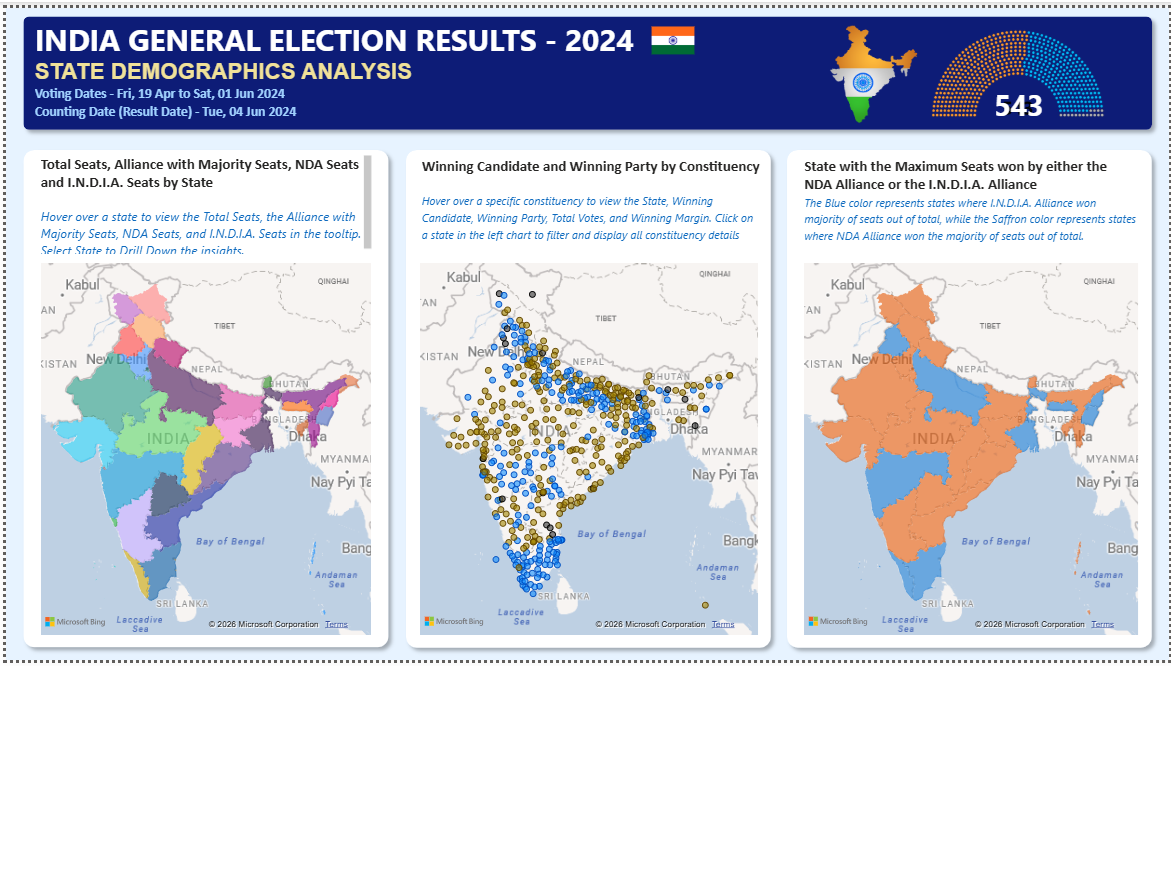

The page's visual inventory and layout, read from the dashboard file:
{"tool":"powerbi","page":{"name":"State Demographics","canvas":[1250,700],"ordinal":1},"visuals":[{"type":"shape","box":[9.3,0,1229.8,139.8],"z":0},{"type":"textbox","box":[25.3,5.9,684.8,121.3],"z":1000},{"type":"image","box":[684,14.3,63.2,40.4],"z":2000},{"type":"image","box":[985.7,12.2,201.3,115.4],"z":3000},{"type":"shape","box":[9.4,143.9,410,552],"z":4000},{"type":"image","box":[874.5,12.2,111.2,115.4],"z":5000},{"type":"shape","box":[419.8,142.8,409.8,552.5],"z":6000},{"type":"card","fields":{"Values":["Sum(partywise_results.Won)"]},"box":[1032.8,80.5,109.5,47.2],"z":7000},{"type":"shape","box":[829.6,142.7,409.7,552.4],"z":8000},{"type":"filledMap","title":"Total Seats, Alliance with Majority Seats, NDA Seats and I.N.D.I.A. Seats by State","fields":{"Category":["states.State"],"Series":["states.State"]},"box":[31.5,269.4,365,409.4],"z":9000},{"type":"map","fields":{"Category":["statewise_results.Country","states.State","statewise_results.Constituency"],"Series":["partywise_results.Party Alliance"]},"box":[439.9,268.9,372.7,409.3],"z":10000},{"type":"filledMap","title":"Total Seats, Alliance with Majority Seats, NDA Seats and I.N.D.I.A. Seats by State","fields":{"Category":["states.State"],"Series":["states.Winning_Alliance"]},"box":[851.6,268.9,368,409.3],"z":11000},{"type":"textbox","box":[31.8,153.7,364.7,115.6],"z":12000},{"type":"textbox","box":[440.8,153.9,373.2,115.5],"z":13000},{"type":"textbox","box":[851.4,153.9,368.5,115.5],"z":14000}]}

Visuals, with their boxes on the page's 1250x700 design canvas (x1, y1, x2, y2). These are canvas units, not pixel positions in the 1171x896 screenshot, which may show the page scaled, cropped or inside an application window:
shape: locate(9, 0, 1239, 140)
textbox: locate(25, 6, 710, 127)
image: locate(684, 14, 747, 55)
image: locate(986, 12, 1187, 128)
shape: locate(9, 144, 419, 696)
image: locate(874, 12, 986, 128)
shape: locate(420, 143, 830, 695)
card - Sum(partywise_results.Won): locate(1033, 80, 1142, 128)
shape: locate(830, 143, 1239, 695)
"Total Seats, Alliance with Majority Seats, NDA Seats and I.N.D.I.A. Seats by State" filledMap: locate(32, 269, 396, 679)
map - statewise_results.Country x states.State: locate(440, 269, 813, 678)
"Total Seats, Alliance with Majority Seats, NDA Seats and I.N.D.I.A. Seats by State" filledMap: locate(852, 269, 1220, 678)
textbox: locate(32, 154, 396, 269)
textbox: locate(441, 154, 814, 269)
textbox: locate(851, 154, 1220, 269)
